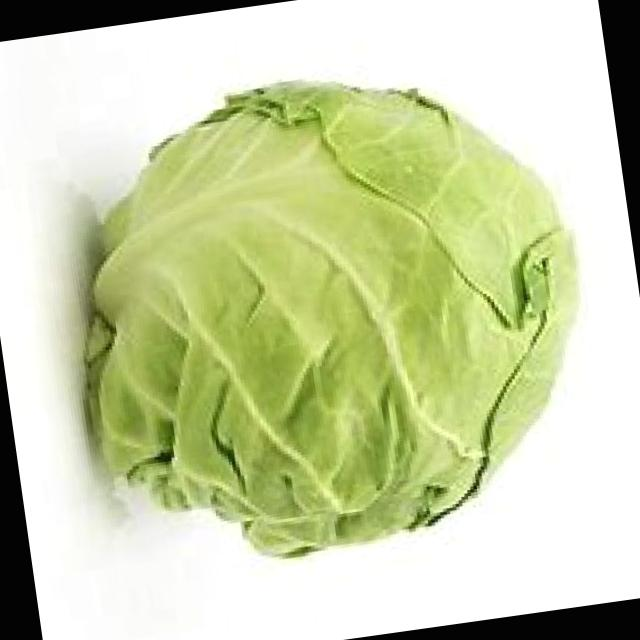cabbage: (38, 23, 607, 610)
